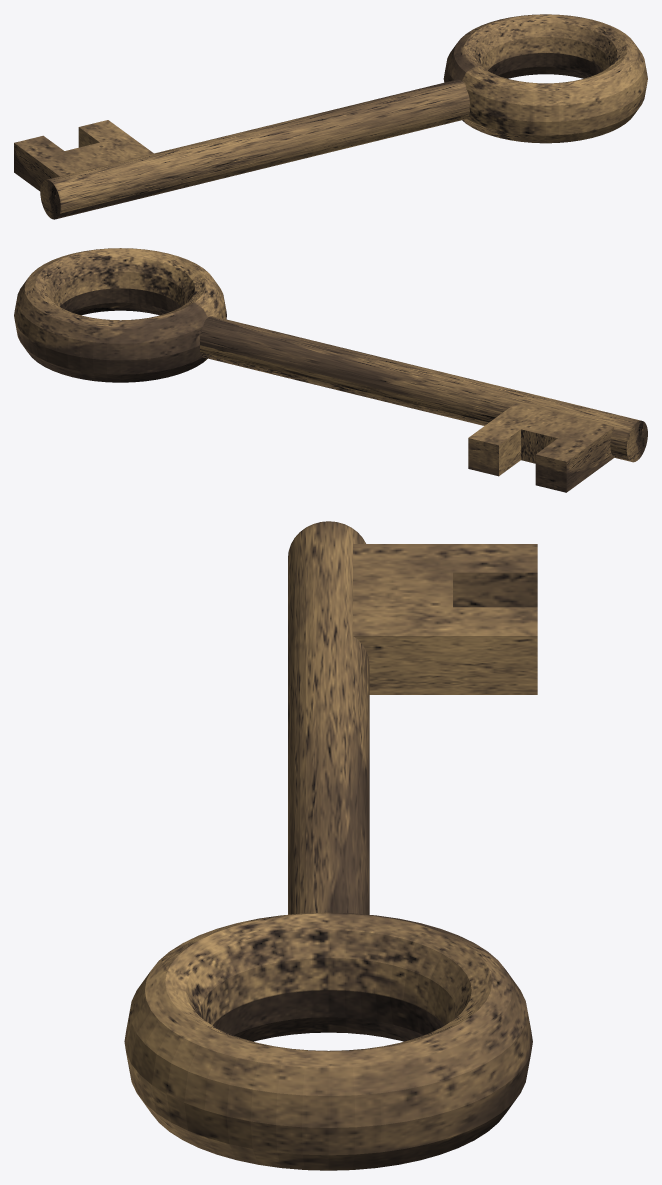
The model's file is key1.glb.
3 renders of one model, top to bottom at view 1: azimuth 30°, elevation 25°; view 2: azimuth 150°, elevation 25°; view 3: azimuth 270°, elevation 25°, orthographic. The views are drawn at different scales.
Parts seen in each view (by area): view 1: Cilindro; view 2: Cilindro; view 3: Cilindro.
Boxes of the visible parts, bbox=[...] form: Cilindro: bbox=[14, 14, 647, 219]; Cilindro: bbox=[14, 248, 647, 492]; Cilindro: bbox=[124, 521, 537, 1170].
Bounding box in the file's own units: 0.825 × 0.08 × 0.2528.
1 material, 1 textured.
